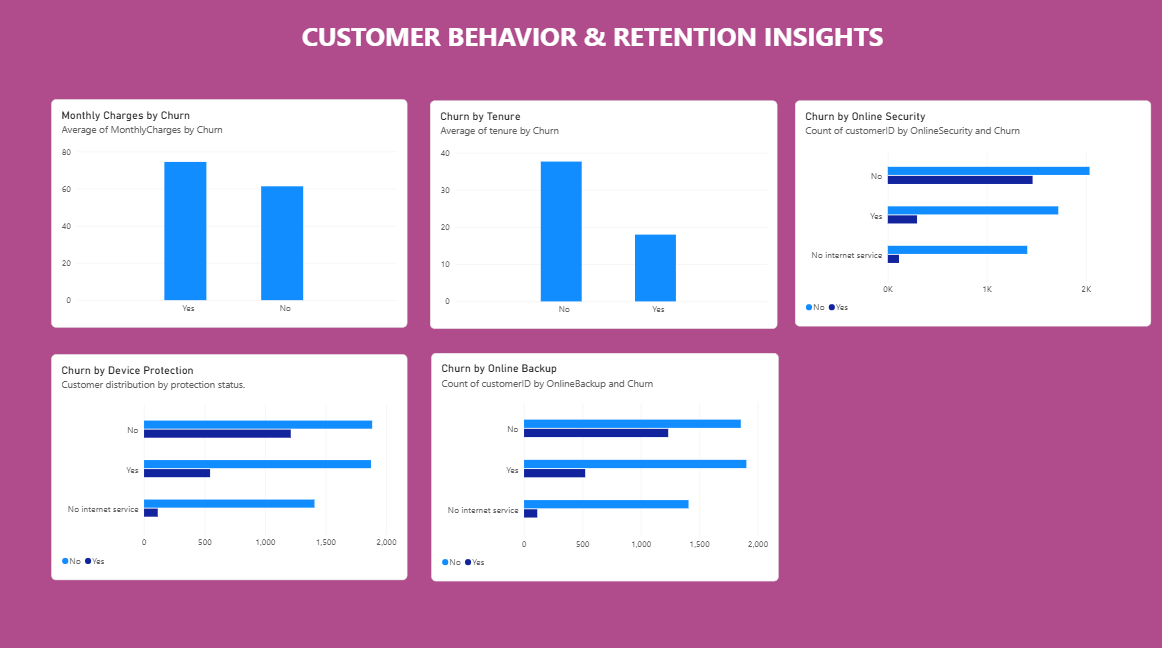

Layout of this report page (visuals, bound fields, positions):
{"tool":"powerbi","page":{"name":"Customer Insights","canvas":[1920,1080],"ordinal":3},"visuals":[{"type":"clusteredColumnChart","title":"Monthly Charges by Churn","fields":{"Category":["WA_Fn-UseC_-Telco-Customer-Churn.Churn"],"Y":["Avg(WA_Fn-UseC_-Telco-Customer-Churn.MonthlyCharges)"]},"box":[84.4,166.7,586,376],"z":0},{"type":"clusteredColumnChart","title":"Churn by Tenure","fields":{"Category":["WA_Fn-UseC_-Telco-Customer-Churn.Churn"],"Y":["Avg(WA_Fn-UseC_-Telco-Customer-Churn.tenure)"]},"box":[708.1,168.8,572,376],"z":1000},{"type":"clusteredBarChart","title":"Churn by Online Security","fields":{"Category":["WA_Fn-UseC_-Telco-Customer-Churn.OnlineSecurity"],"Series":["WA_Fn-UseC_-Telco-Customer-Churn.Churn"],"Y":["CountNonNull(WA_Fn-UseC_-Telco-Customer-Churn.customerID)"]},"box":[1309.1,168.8,586,372],"z":2000},{"type":"clusteredBarChart","title":"Churn by Device Protection","fields":{"Category":["WA_Fn-UseC_-Telco-Customer-Churn.DeviceProtection"],"Series":["WA_Fn-UseC_-Telco-Customer-Churn.Churn"],"Y":["CountNonNull(WA_Fn-UseC_-Telco-Customer-Churn.customerID)"]},"box":[84.4,586.6,586,372],"z":3000},{"type":"clusteredBarChart","title":"Churn by Online Backup","fields":{"Category":["WA_Fn-UseC_-Telco-Customer-Churn.OnlineBackup"],"Series":["WA_Fn-UseC_-Telco-Customer-Churn.Churn"],"Y":["CountNonNull(WA_Fn-UseC_-Telco-Customer-Churn.customerID)"]},"box":[710.1,584.6,572,376],"z":4000},{"type":"textbox","box":[83.3,33.3,1786.7,83.3],"z":5000}]}

Visuals, with their boxes in screenshot pixels (x1, y1, x2, y2), scaled from the page's 1920x1080 canvas onto the 1162x648 screenshot:
"Monthly Charges by Churn" clusteredColumnChart: box(51, 100, 406, 326)
"Churn by Tenure" clusteredColumnChart: box(429, 101, 775, 327)
"Churn by Online Security" clusteredBarChart: box(792, 101, 1147, 324)
"Churn by Device Protection" clusteredBarChart: box(51, 352, 406, 575)
"Churn by Online Backup" clusteredBarChart: box(430, 351, 776, 576)
textbox: box(50, 20, 1132, 70)
